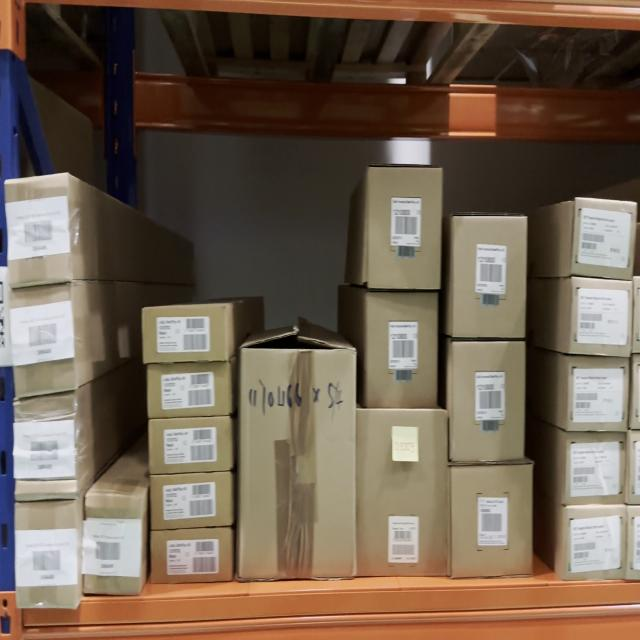box: (240, 341, 358, 576), (359, 412, 449, 576), (450, 345, 527, 465), (366, 289, 440, 412), (451, 468, 531, 576), (455, 216, 525, 338), (368, 168, 440, 284), (8, 286, 77, 394), (8, 185, 78, 283), (16, 504, 80, 607), (15, 398, 78, 496), (84, 493, 144, 591), (571, 194, 638, 277), (563, 502, 627, 587), (140, 299, 228, 360), (570, 279, 634, 354), (572, 356, 633, 431), (146, 364, 234, 412), (153, 527, 231, 581), (565, 437, 626, 505), (150, 420, 230, 470), (153, 481, 230, 526)
